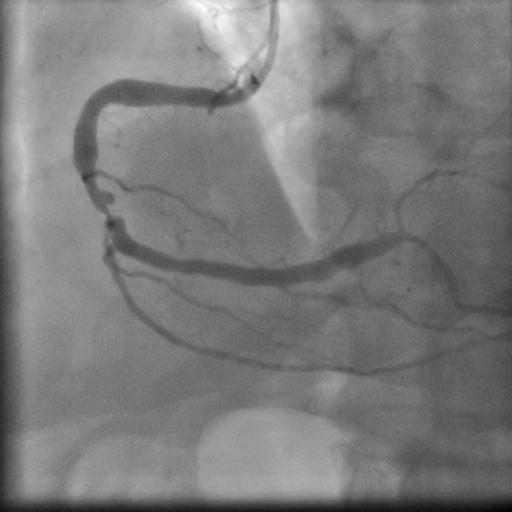Stenosis: (80, 186, 126, 224)
